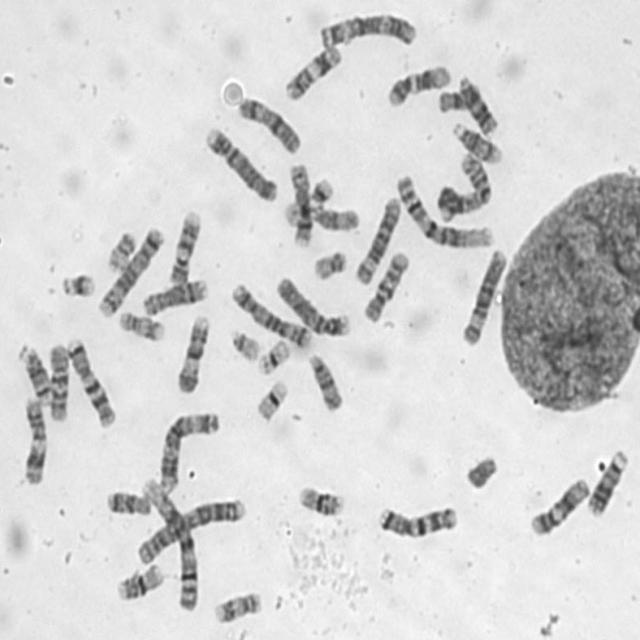A1: (139, 473, 200, 614), (394, 171, 495, 249)
A2: (133, 495, 248, 565), (433, 148, 492, 224)
A3: (156, 407, 221, 495), (317, 10, 420, 51)
B4: (203, 123, 279, 205), (272, 271, 352, 339)
B5: (96, 224, 166, 319), (229, 279, 311, 350)
C10: (361, 247, 412, 325), (44, 339, 71, 423)
C11: (281, 42, 344, 102), (18, 393, 48, 487)
C12: (526, 474, 590, 538), (384, 62, 452, 108)
C6: (459, 244, 508, 348), (352, 194, 403, 286)
C7: (65, 334, 118, 429), (374, 500, 459, 540)
C8: (139, 275, 210, 317), (286, 161, 313, 248)
C9: (175, 310, 212, 396), (167, 206, 203, 286)
D13: (585, 446, 629, 518), (456, 72, 498, 138)
D14: (450, 118, 503, 166), (15, 339, 52, 403)
D15: (307, 350, 344, 412), (309, 202, 360, 232)
E16: (293, 480, 347, 519), (114, 561, 165, 602)
E17: (209, 587, 265, 626), (115, 307, 166, 344)
E18: (103, 486, 153, 518), (438, 82, 481, 116)
F19: (253, 376, 289, 422), (255, 336, 292, 377)
F20: (105, 229, 137, 273), (311, 246, 349, 282)
G21: (58, 267, 98, 300), (307, 174, 335, 207)
G22: (228, 326, 261, 363), (280, 200, 314, 228)
X: (236, 92, 303, 156)
Y: (462, 451, 499, 491)
